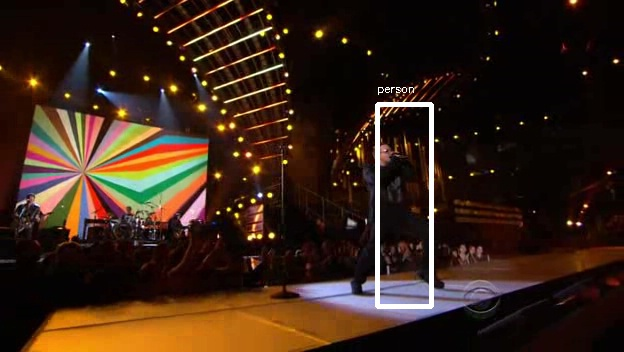person: (361, 140, 421, 247), (358, 140, 418, 247), (364, 140, 424, 247), (361, 137, 421, 244), (361, 143, 421, 250)
target_negative: (196, 202, 519, 280), (419, 280, 499, 343), (527, 12, 532, 218), (582, 136, 585, 316), (514, 336, 557, 347), (586, 219, 595, 253)
